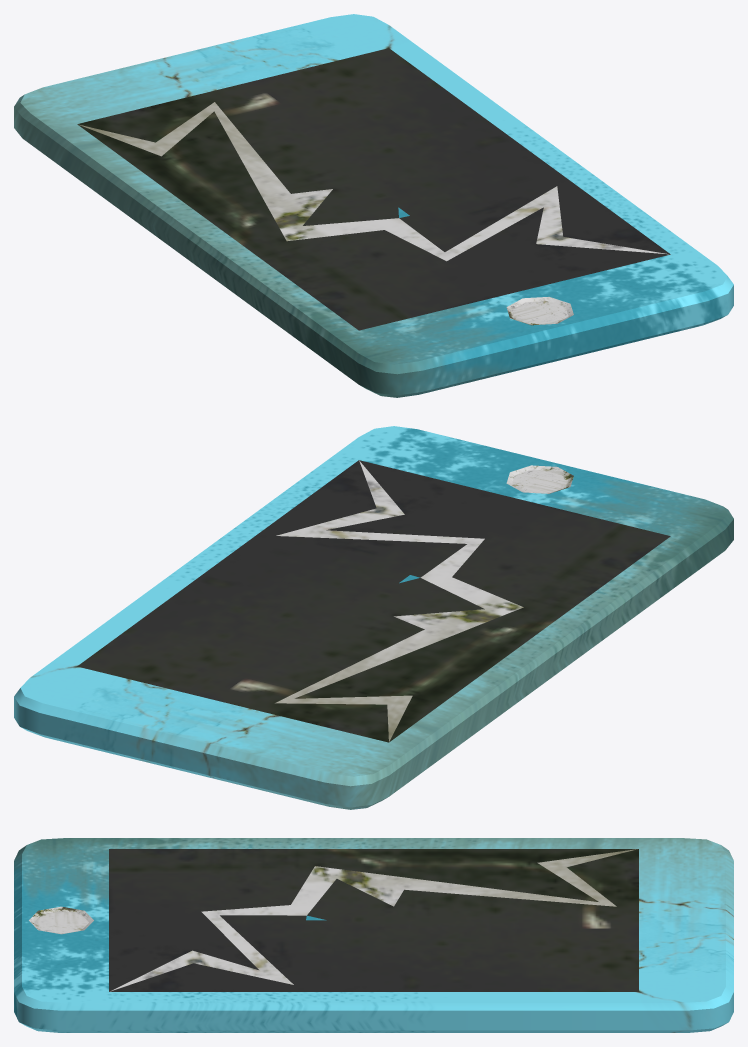
The model's file is phone3.fbx.
The picture shows the model from 3 angles, top to bottom: view 1: azimuth 30°, elevation 25°; view 2: azimuth 150°, elevation 25°; view 3: azimuth 270°, elevation 25°; orthographic projection. The views are drawn at different scales.
Visible parts, largest first — view 1: phone3; view 2: phone3; view 3: phone3.
Boxes of the visible parts, x1,y1,x2,y2 form: phone3: (14, 14, 733, 397); phone3: (14, 426, 733, 809); phone3: (14, 838, 733, 1032).
Bounding box in the file's own units: 0.0827 × 0.00727 × 0.1496.
